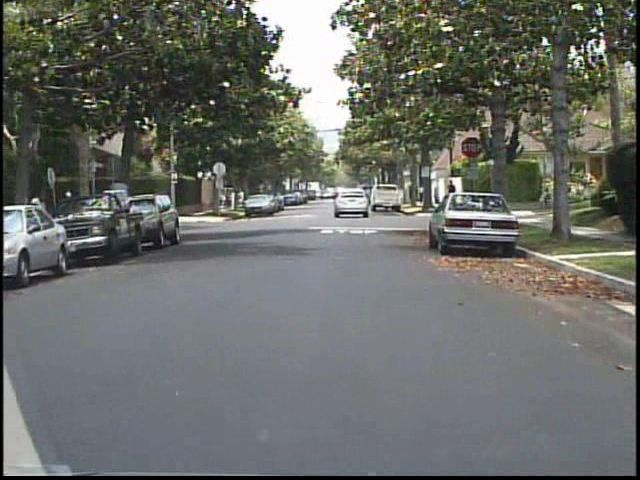person: (28, 184, 55, 262), (443, 176, 460, 213), (418, 183, 426, 204)
